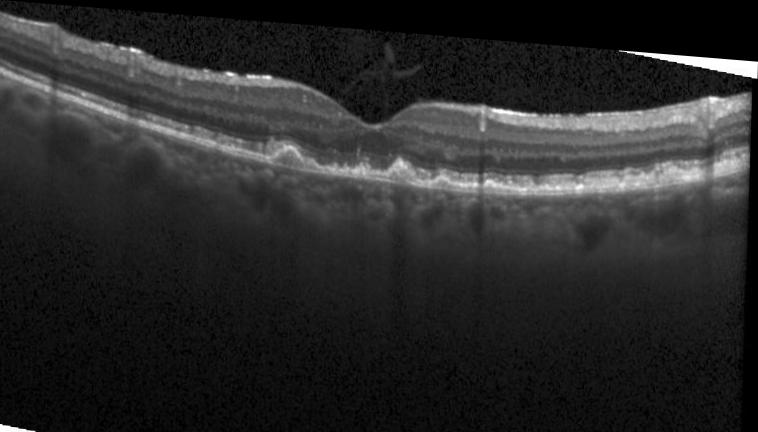retinal_drusen: (273, 144, 324, 167), (387, 153, 420, 177), (351, 154, 373, 173), (324, 156, 353, 170), (430, 170, 453, 181), (482, 173, 499, 184)
